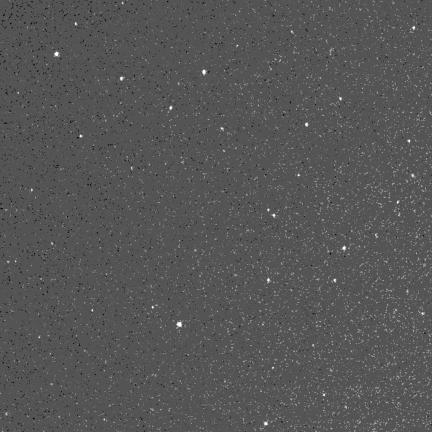blob: (177, 322, 182, 327), (120, 77, 125, 81), (55, 52, 59, 56), (412, 26, 416, 30), (333, 279, 337, 283), (291, 30, 295, 34), (203, 70, 206, 75), (408, 140, 411, 144), (75, 22, 78, 26), (221, 127, 224, 131), (343, 246, 346, 250), (272, 214, 275, 218), (412, 174, 415, 178), (267, 278, 270, 282), (340, 97, 343, 101), (397, 200, 400, 204), (131, 166, 133, 171), (264, 422, 267, 425), (298, 174, 301, 177), (80, 134, 83, 137), (92, 309, 94, 313), (268, 208, 270, 212), (170, 106, 172, 110), (306, 122, 308, 126), (313, 344, 315, 348), (152, 306, 154, 309)
